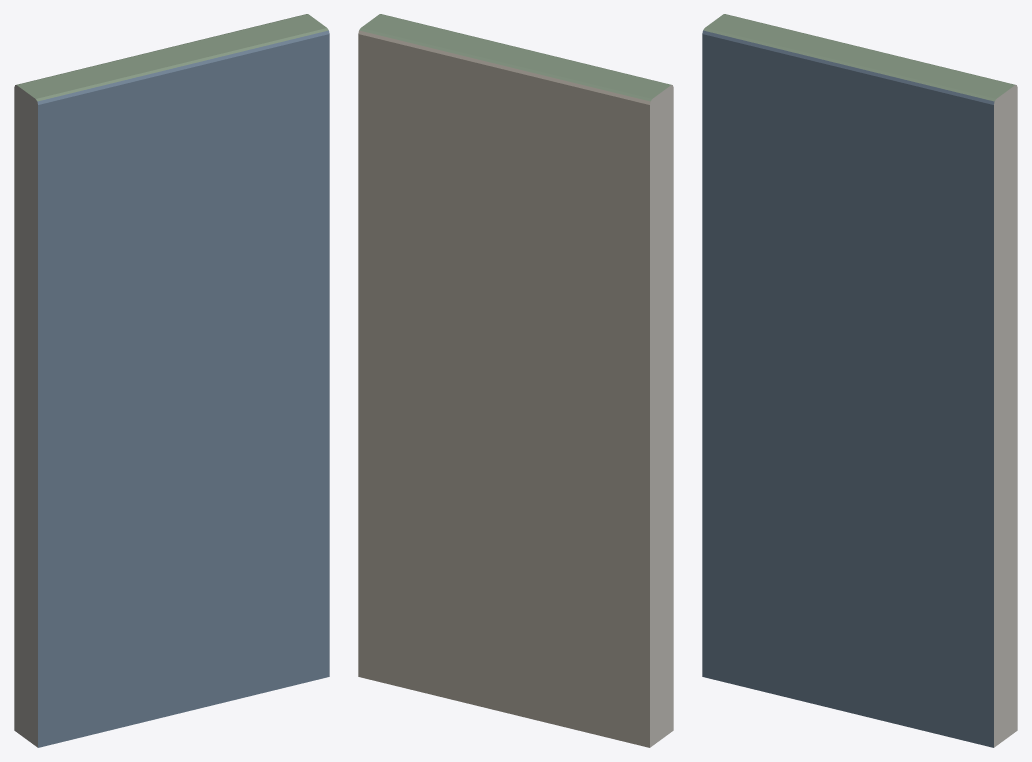
The model's file is SM_Kit_WallDiag.glb.
3 renders of one model, left to right at view 1: azimuth 30°, elevation 25°; view 2: azimuth 150°, elevation 25°; view 3: azimuth 330°, elevation 25°, orthographic.
Parts seen in each view (by area): view 1: SM_Kit_WallDiag; view 2: SM_Kit_WallDiag; view 3: SM_Kit_WallDiag.
Boxes of the visible parts, x1,y1,x2,y2 form: SM_Kit_WallDiag: [14, 14, 329, 747]; SM_Kit_WallDiag: [358, 14, 673, 747]; SM_Kit_WallDiag: [702, 14, 1017, 747].
Size of the model in its own units: 1.41 by 3 by 0.2.
